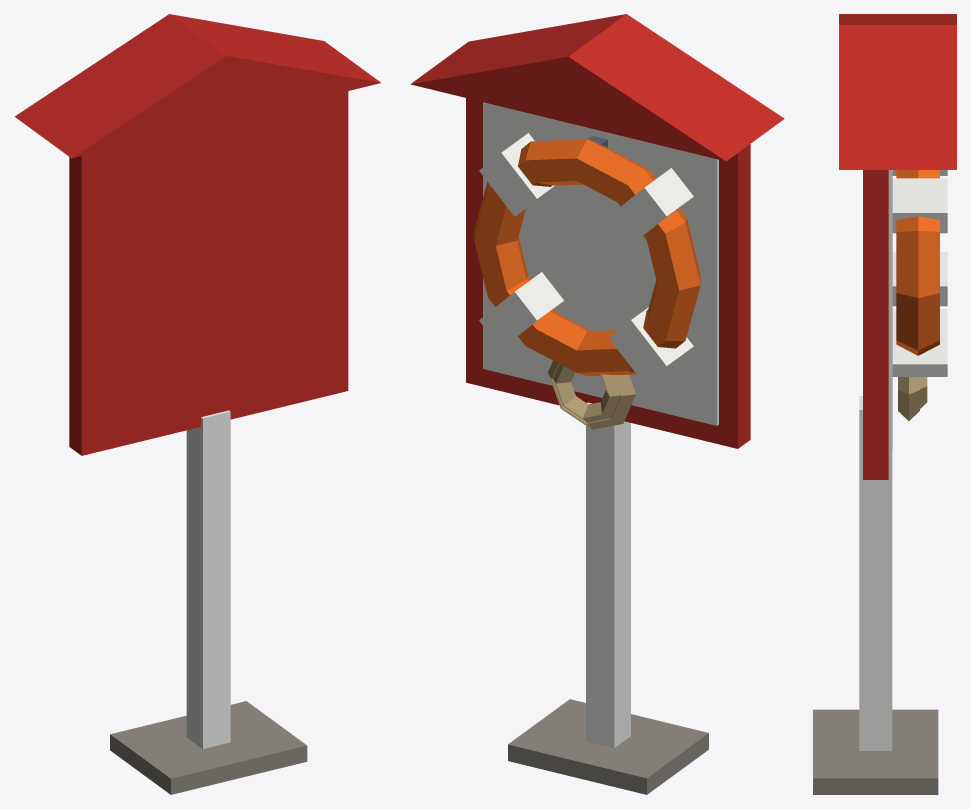
The model's file is lifebuoy_stand.glb.
The picture shows the model from 3 angles, left to right: view 1: azimuth 30°, elevation 25°; view 2: azimuth 150°, elevation 25°; view 3: azimuth 270°, elevation 25°; orthographic projection. The views are drawn at different scales.
Visible parts, largest first — view 1: Stand; view 2: Stand; view 3: Stand.
Part boxes in pixels (left/top/right/bottom): Stand: left=14, top=14, right=380, bottom=794; Stand: left=410, top=14, right=784, bottom=794; Stand: left=813, top=14, right=956, bottom=794.
Bounding box in the file's own units: 1 × 2.2 × 0.39.
